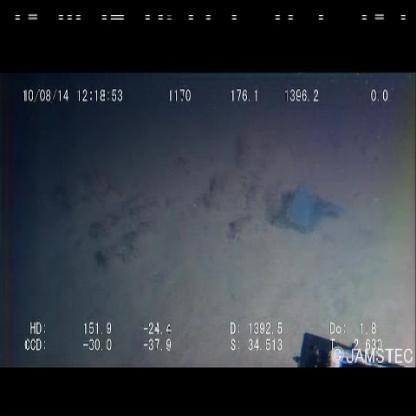Rov: (290, 325, 416, 373)
Rác: (265, 176, 353, 238)
